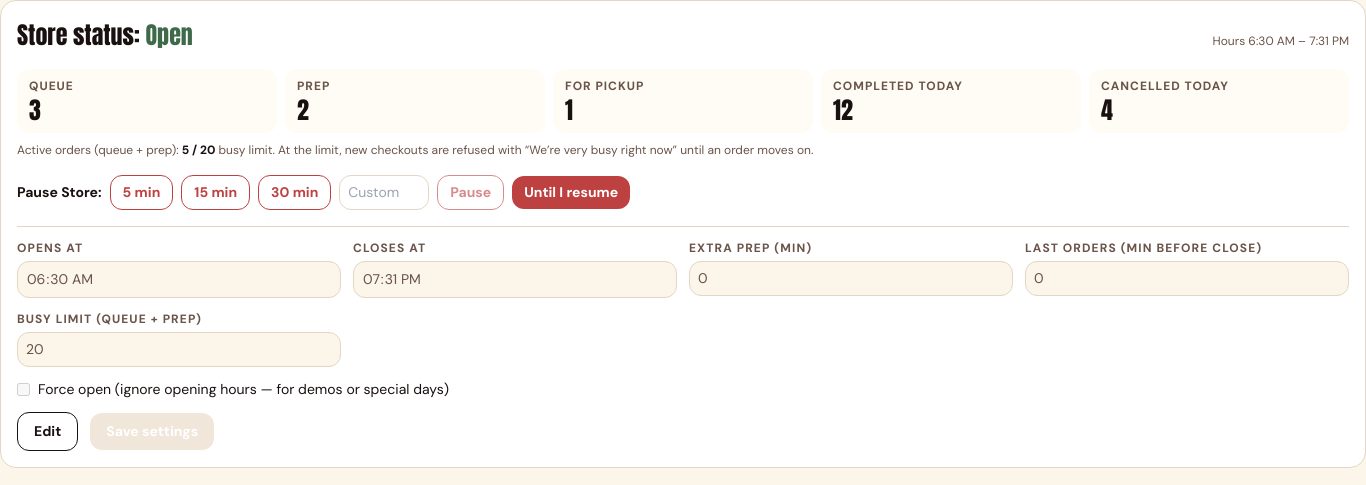
Test case: StoreControlPanel (issue #115 follow-up) › saves the edited times and returns to read-only
This screenshot has width=1366, height=485.
Click the button "Edit" at (48, 432), box [17,412,78,451]
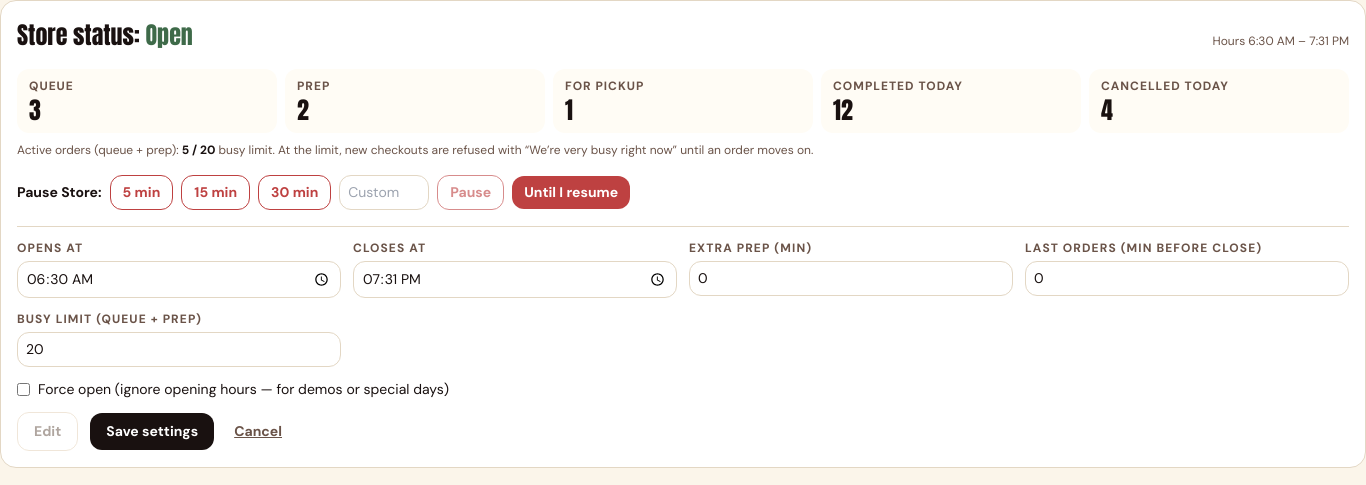
Replace the text in the time field labelled "Opens at" with "07:15" at (179, 280), box [17,261,341,298]
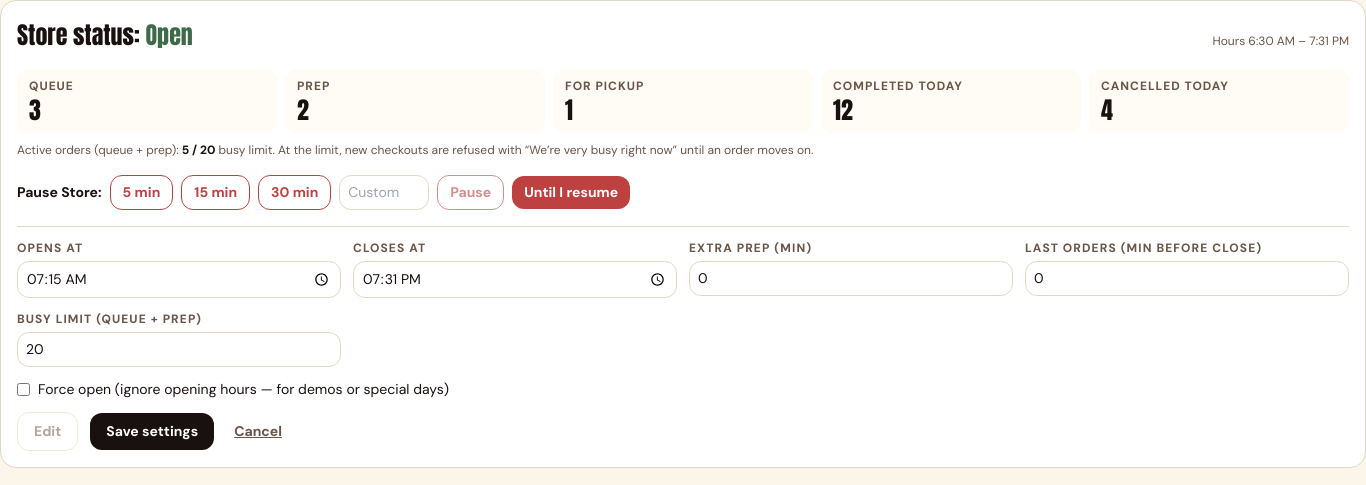
Click the button "Save settings" at (152, 432), box [90,413,214,450]
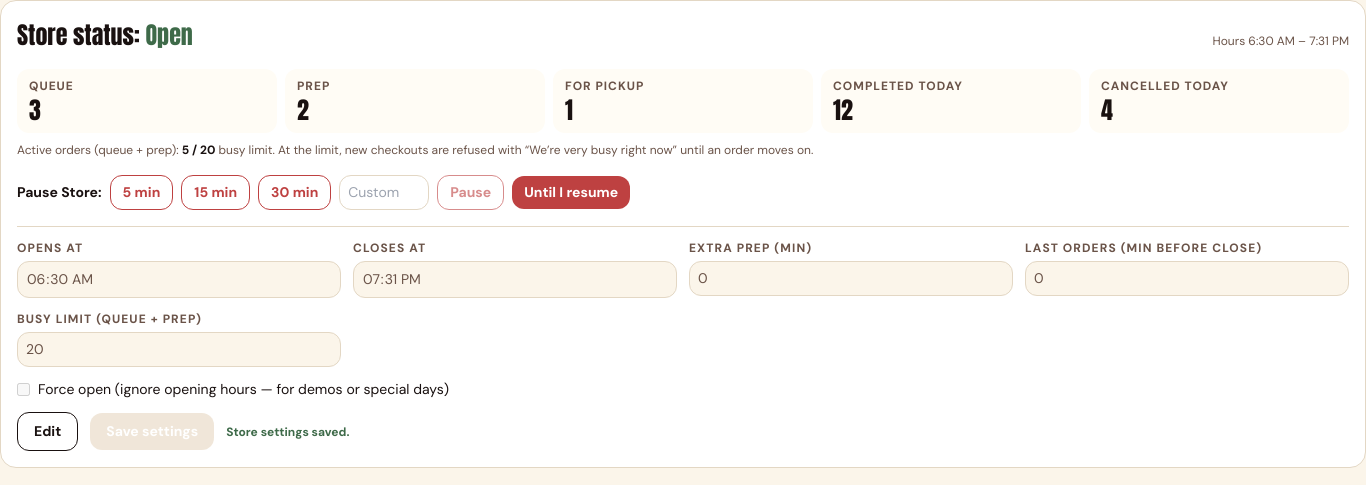
Expected: the button "Save settings" is disabled, [90,413,214,450]
Expected: the button "Edit" is enabled, [17,412,78,451]
